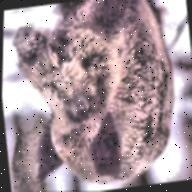boar: (4, 0, 187, 192)
